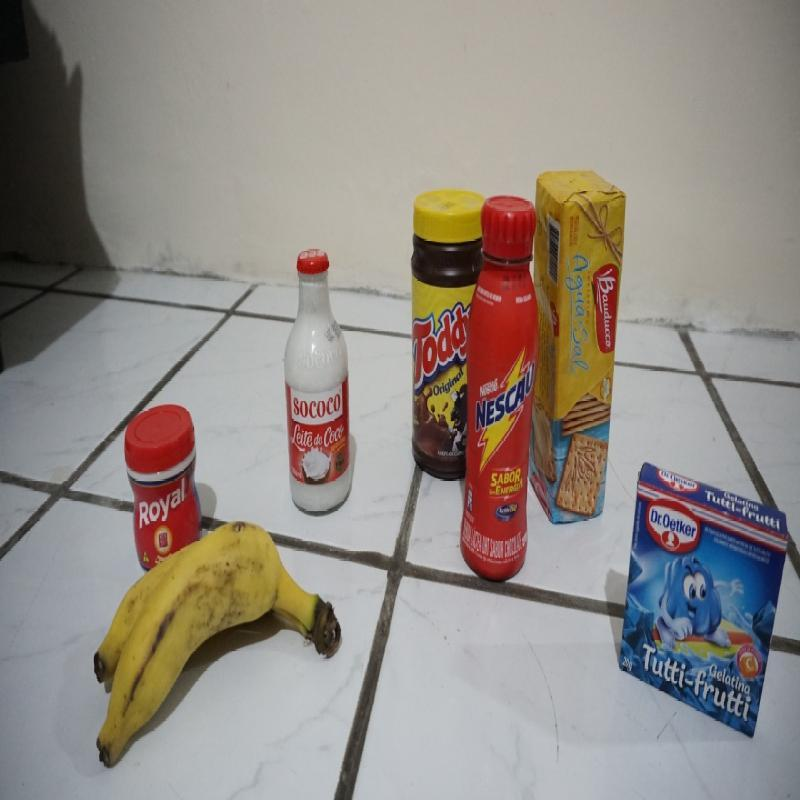Banana: (76, 545, 348, 754)
Chocolate Milk: (472, 194, 526, 606)
Chocolate Powder: (415, 199, 475, 479)
Coconut Milk: (278, 232, 365, 531)
Cracker: (531, 173, 627, 531)
Gelatine: (616, 460, 797, 742)
Yeast: (107, 400, 207, 549)
